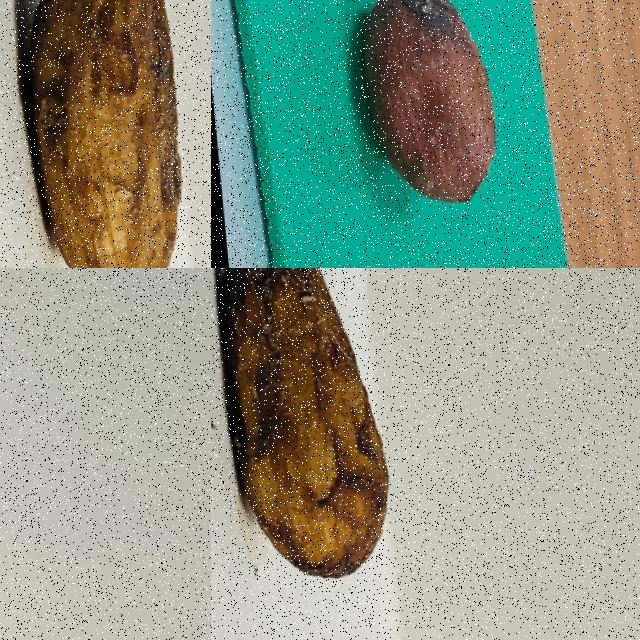Fine_cocoabeans: (211, 268, 407, 606), (292, 0, 538, 267), (0, 0, 208, 267)
